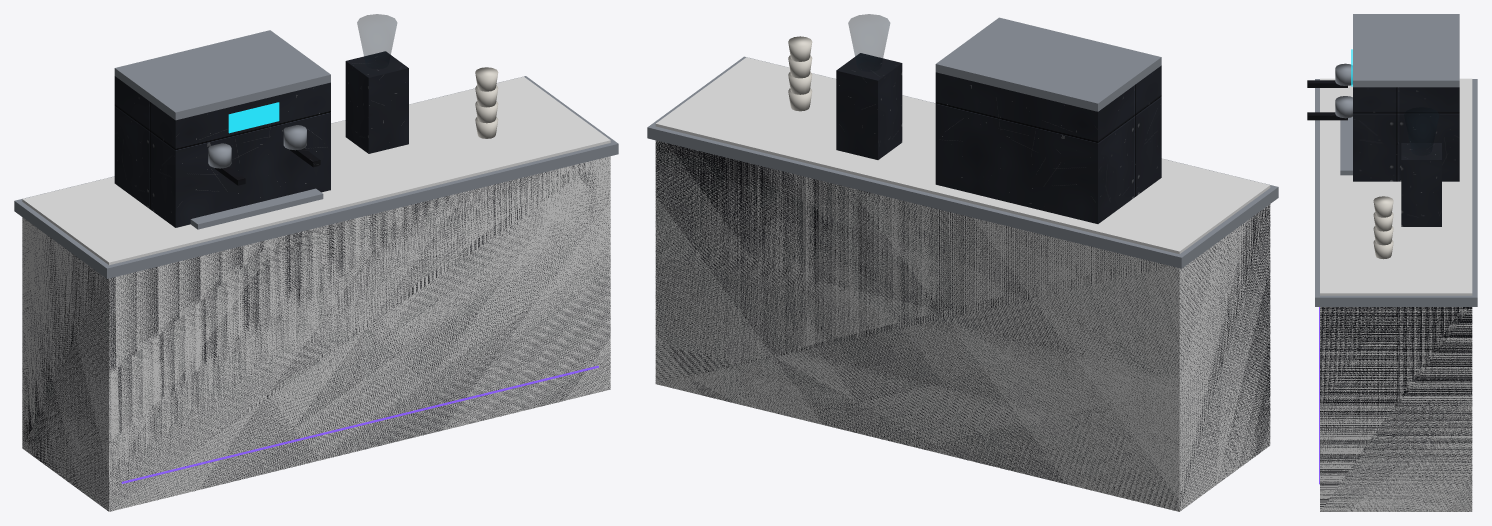
The model's file is Furn_CoffeeCounter.gltf.
The picture shows the model from 3 angles, left to right: view 1: azimuth 30°, elevation 25°; view 2: azimuth 150°, elevation 25°; view 3: azimuth 270°, elevation 25°; orthographic projection. The views are drawn at different scales.
Parts seen in each view (by area): view 1: Furn_CoffeeCounter_COL, Furn_CoffeeCounter; view 2: Furn_CoffeeCounter_COL, Furn_CoffeeCounter; view 3: Furn_CoffeeCounter, Furn_CoffeeCounter_COL.
Part boxes in pixels (box(x1,y1,x2,y2)): Furn_CoffeeCounter_COL: box(22, 76, 610, 511); Furn_CoffeeCounter: box(14, 14, 618, 511); Furn_CoffeeCounter_COL: box(655, 57, 1270, 511); Furn_CoffeeCounter: box(647, 14, 1278, 511); Furn_CoffeeCounter: box(1307, 14, 1477, 511); Furn_CoffeeCounter_COL: box(1320, 78, 1472, 511).
Size of the model in its own units: 2.04 by 1.4 by 0.67.
7 materials, 2 textured.
